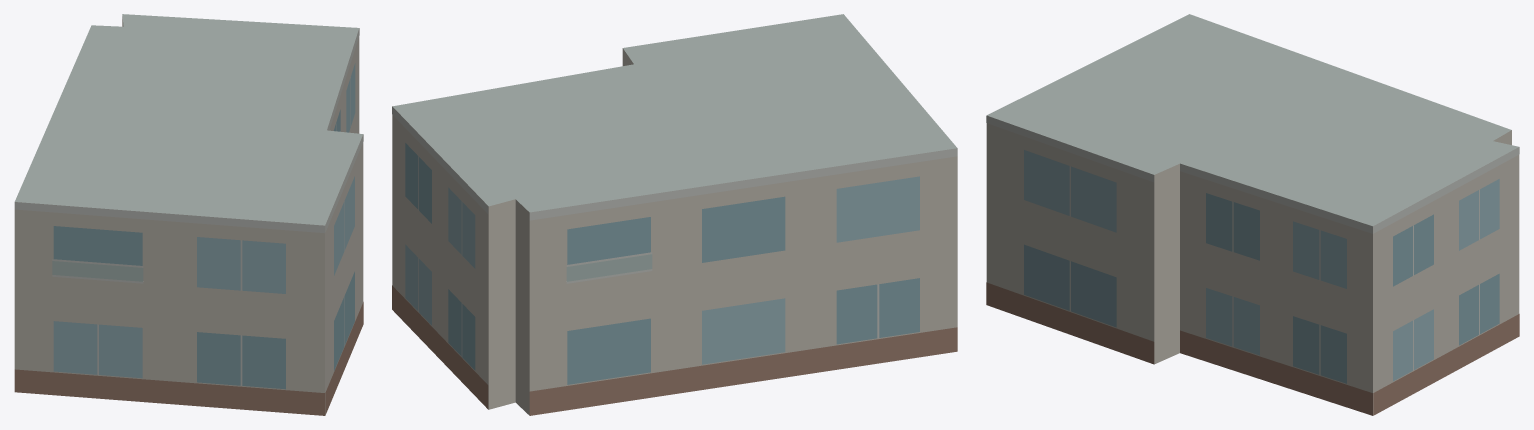
Rendered from survey-upis-32777467.glb.
The picture shows the model from 3 angles, left to right: view 1: azimuth 30°, elevation 25°; view 2: azimuth 150°, elevation 25°; view 3: azimuth 270°, elevation 25°; orthographic projection. The views are drawn at different scales.
Visible parts, largest first — view 1: survey-upis-32777467.tmp; view 2: survey-upis-32777467.tmp; view 3: survey-upis-32777467.tmp.
Boxes of the visible parts, box(x1,y1,x2,y2) form: survey-upis-32777467.tmp: box(14, 14, 363, 415); survey-upis-32777467.tmp: box(392, 14, 957, 415); survey-upis-32777467.tmp: box(986, 14, 1519, 415).
Bounding box in the file's own units: 14.66 × 6.1 × 15.55.
